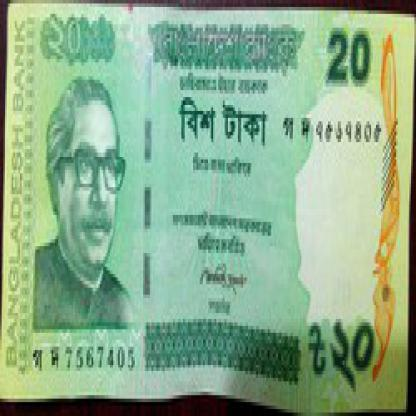Twenty: (173, 90, 280, 153), (42, 7, 124, 83), (308, 319, 383, 392), (321, 24, 381, 90)
